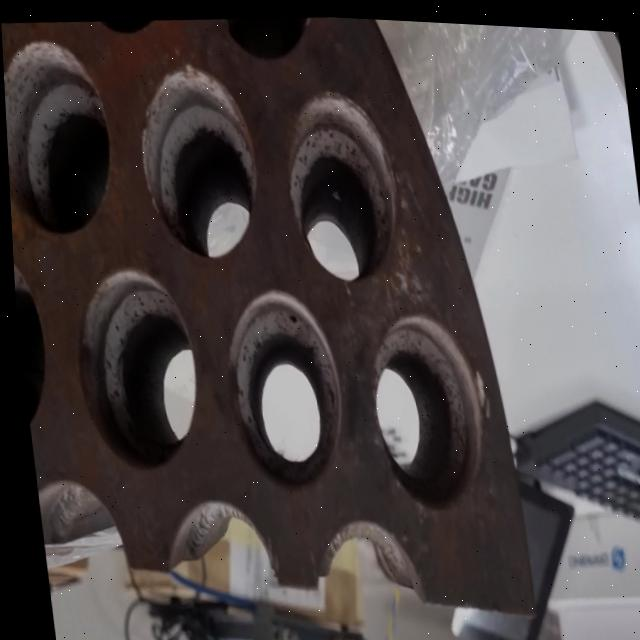Hole: (62, 260, 204, 476), (215, 280, 349, 496), (128, 55, 263, 267), (356, 304, 491, 512), (274, 82, 405, 284), (1, 30, 119, 241), (10, 252, 51, 444), (211, 9, 319, 64), (77, 12, 178, 39)
